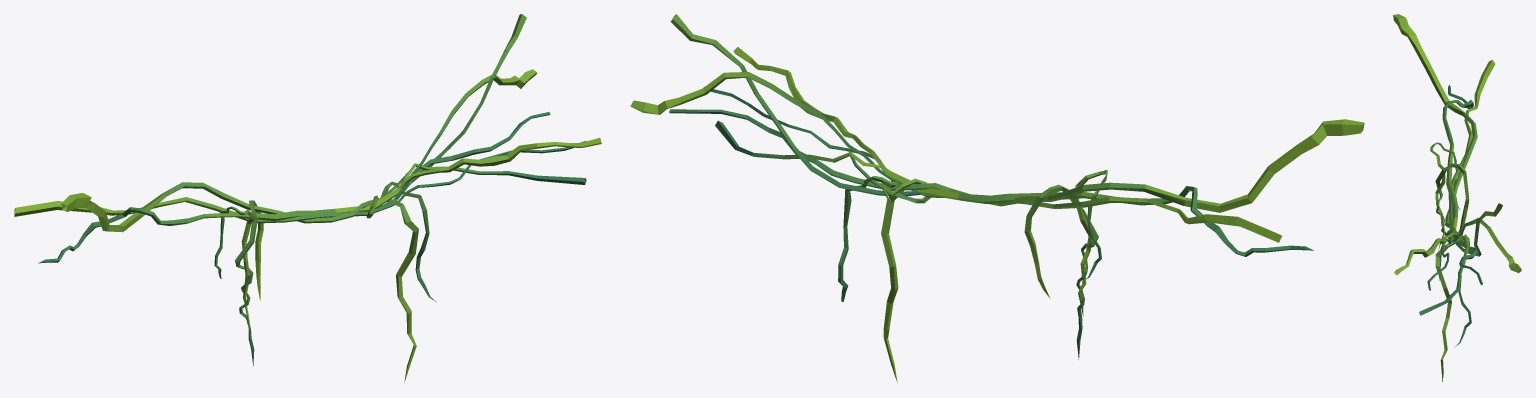
File: ZLP_Plant_Vine_B_1.FBX
The picture shows the model from 3 angles, left to right: view 1: azimuth 30°, elevation 25°; view 2: azimuth 150°, elevation 25°; view 3: azimuth 270°, elevation 25°; orthographic projection. The views are drawn at different scales.
Visible parts, largest first — view 1: ZLP_Plant_Vine_B_1; view 2: ZLP_Plant_Vine_B_1; view 3: ZLP_Plant_Vine_B_1.
Part boxes in pixels (<box>): ZLP_Plant_Vine_B_1: <box>14,14,601,382</box>; ZLP_Plant_Vine_B_1: <box>630,14,1364,382</box>; ZLP_Plant_Vine_B_1: <box>1393,14,1521,381</box>.
Size of the model in its own units: 1174 by 623 by 303.
